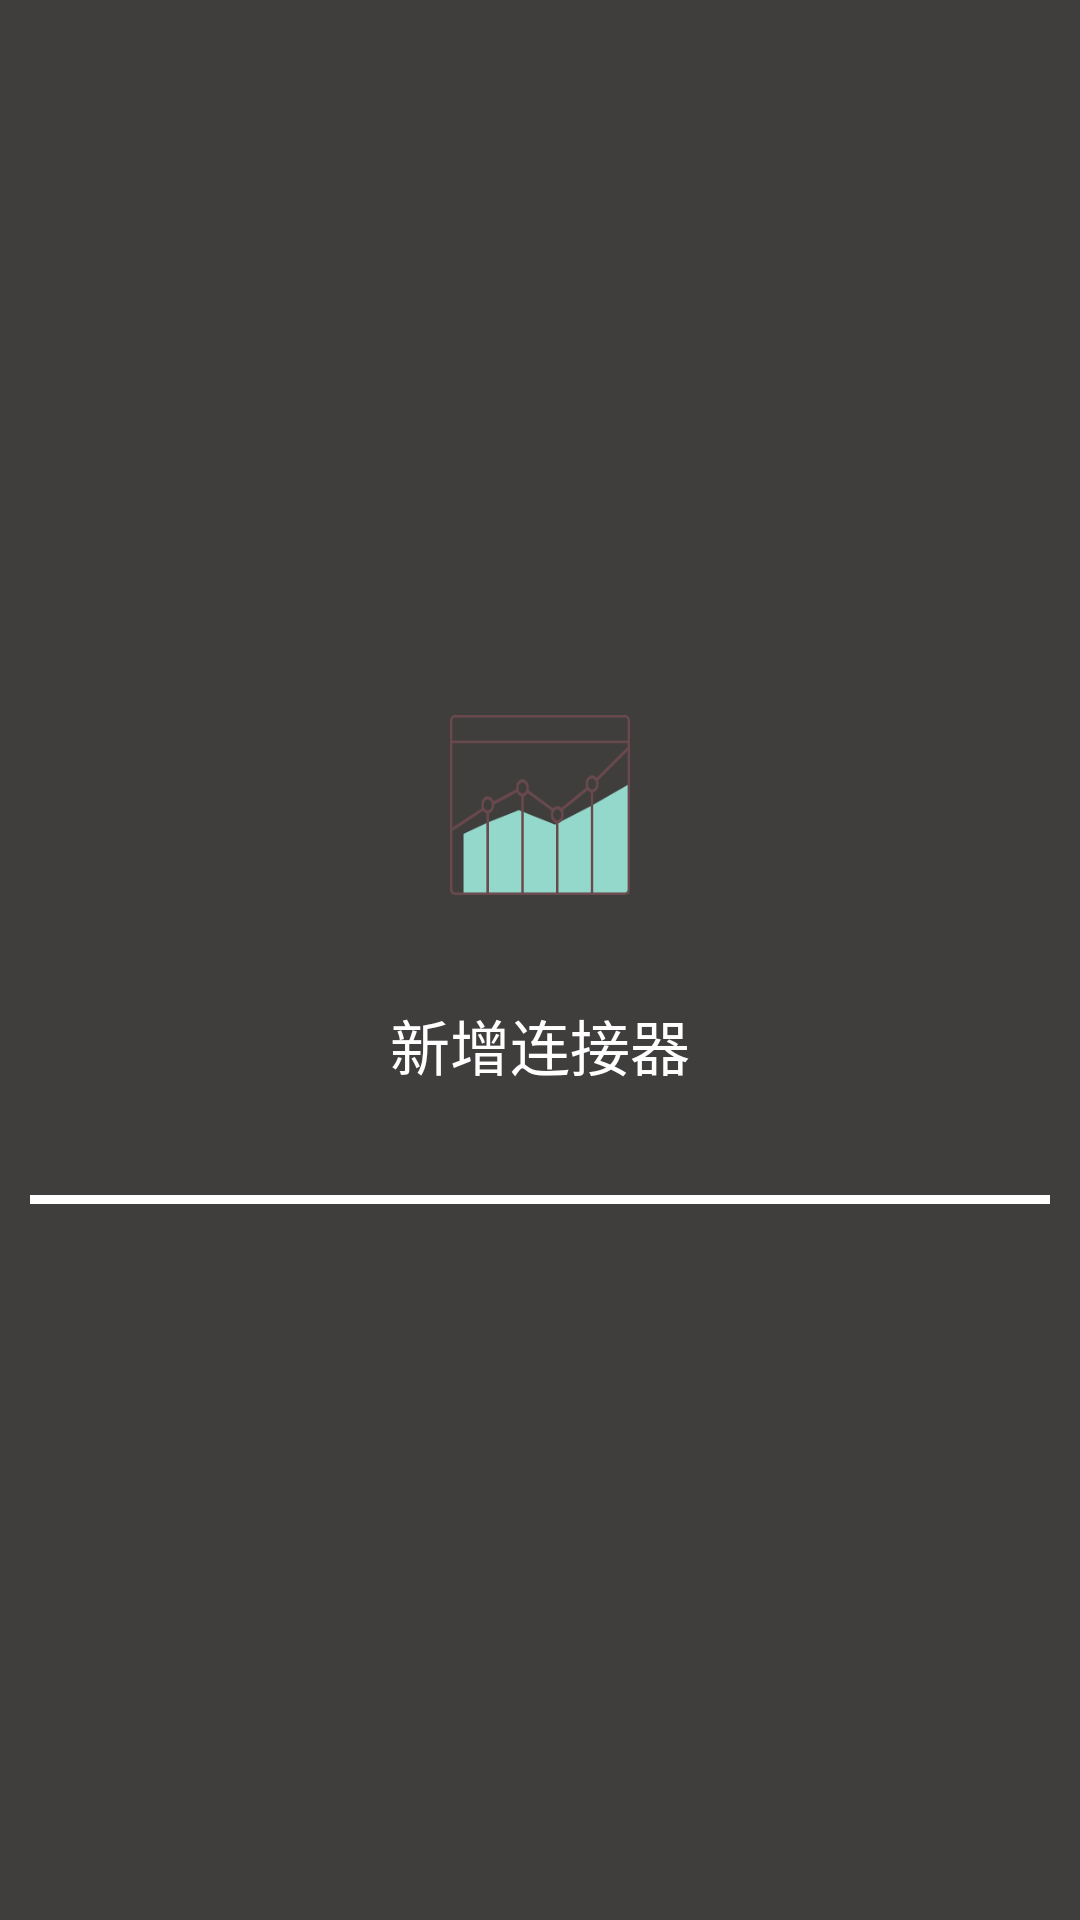

Screen size 1080x1920. Icon name, then its box in pixels as [x1=x1, y1=y1, x2=x2, y2=y2]:
data: [x1=450, y1=715, x2=630, y2=895]
